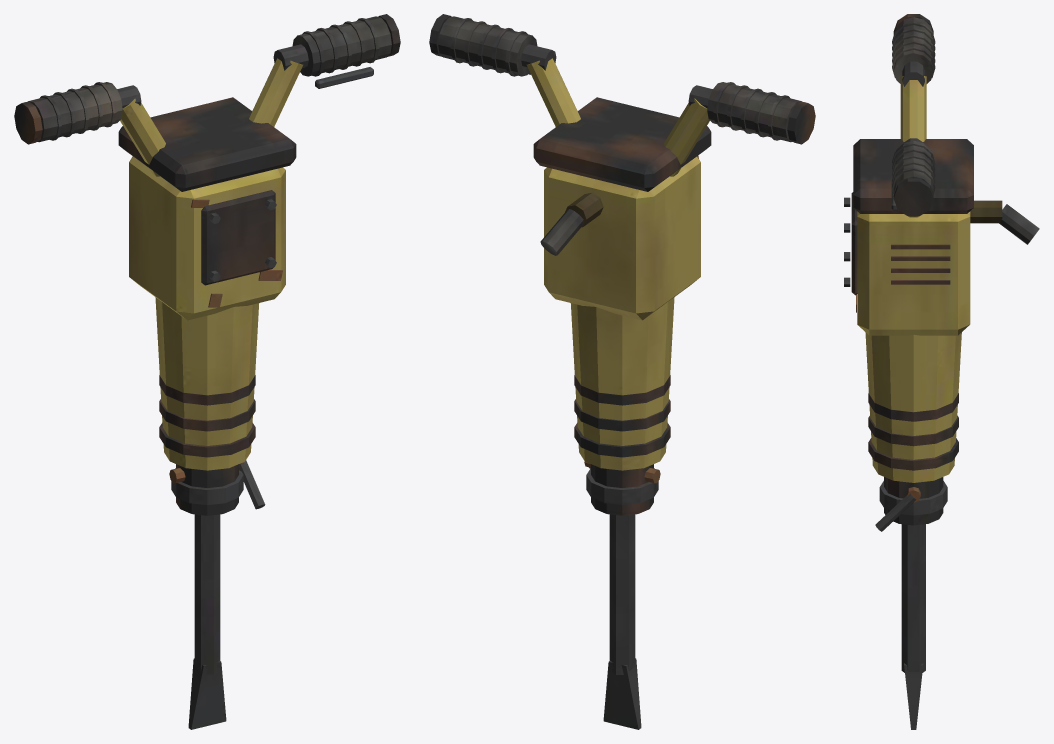
File: CS14_jackhammer.glb
The picture shows the model from 3 angles, left to right: view 1: azimuth 30°, elevation 25°; view 2: azimuth 150°, elevation 25°; view 3: azimuth 270°, elevation 25°; orthographic projection. The views are drawn at different scales.
Parts seen in each view (by area): view 1: Hexagonal demolition steel; view 2: Hexagonal demolition steel; view 3: Hexagonal demolition steel.
Boxes of the visible parts, box(x1,y1,x2,y2) form: Hexagonal demolition steel: box(14, 14, 400, 729); Hexagonal demolition steel: box(429, 14, 815, 729); Hexagonal demolition steel: box(844, 14, 1039, 729).
Bounding box in the file's own units: 0.4589 × 0.8 × 0.2265.
6 materials, 6 textured.
